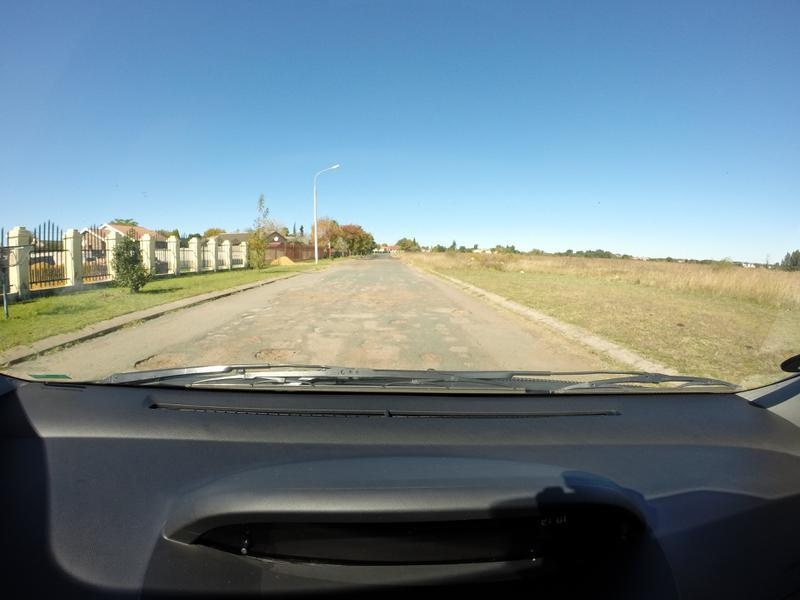pothole: (116, 344, 193, 369), (239, 341, 304, 367), (383, 312, 409, 331), (418, 349, 443, 366)
